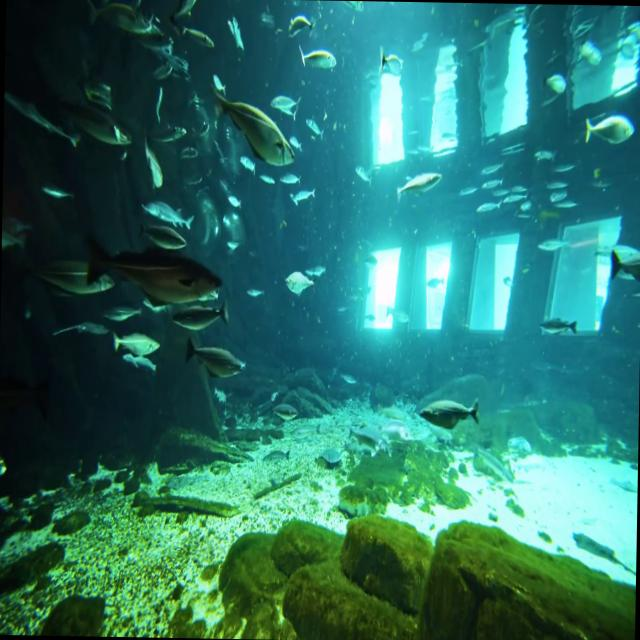fish: (88, 237, 224, 294), (209, 80, 297, 166), (40, 83, 130, 146), (181, 330, 244, 388), (419, 398, 478, 428), (112, 330, 158, 358), (300, 45, 336, 72)
